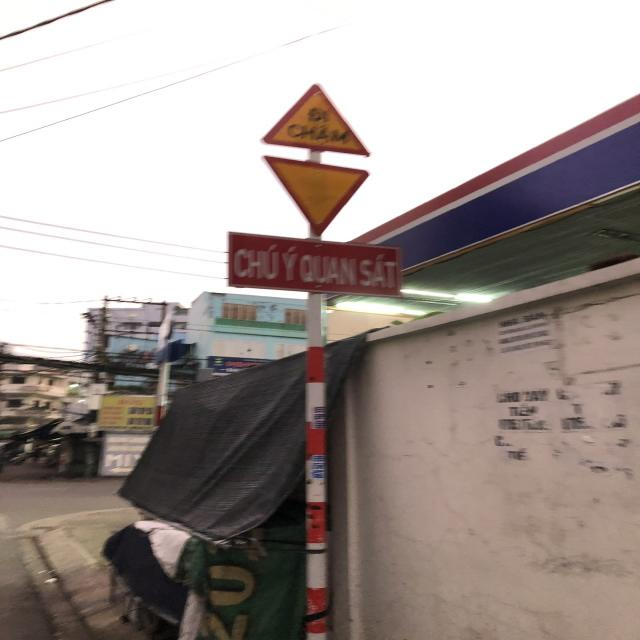Bien bao di cham: (249, 76, 388, 158)
Bien bao giao nhau voi duong uu tien: (244, 151, 388, 240)
